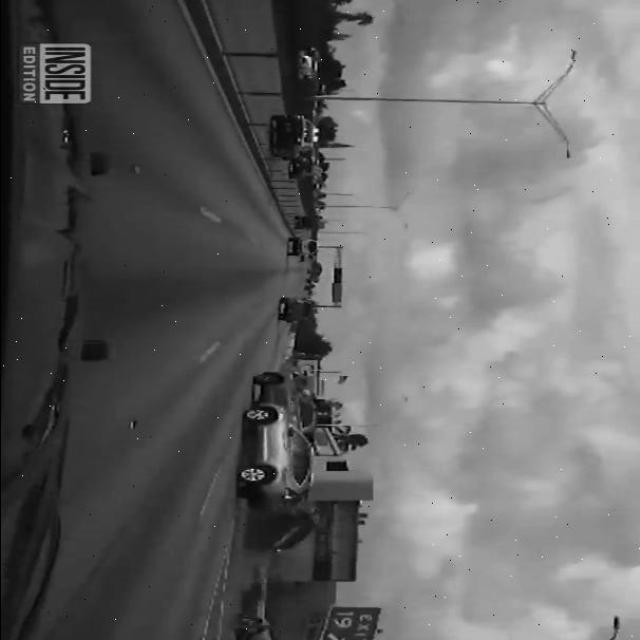accident: (231, 513, 333, 555)
